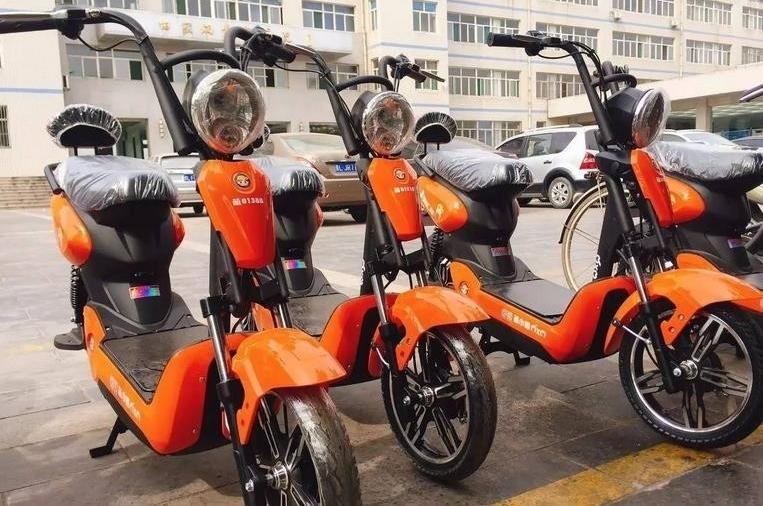non-vehicle: (28, 21, 357, 506), (428, 38, 763, 454), (264, 37, 492, 480)
